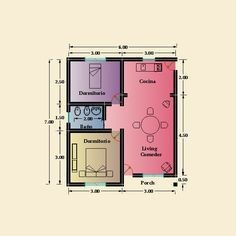room: (64, 129, 123, 187), (65, 54, 126, 105), (64, 101, 126, 133)
wall: (172, 72, 180, 174), (65, 122, 72, 186), (65, 100, 112, 109), (65, 56, 72, 115), (119, 61, 128, 105), (67, 126, 110, 132), (120, 124, 124, 188), (109, 55, 142, 62), (104, 179, 123, 189), (155, 56, 179, 62), (64, 182, 86, 188)
window: (120, 53, 178, 178), (86, 54, 106, 64), (140, 54, 157, 63), (87, 181, 104, 190)
